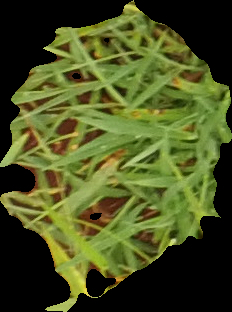grass: (1, 1, 231, 310)
